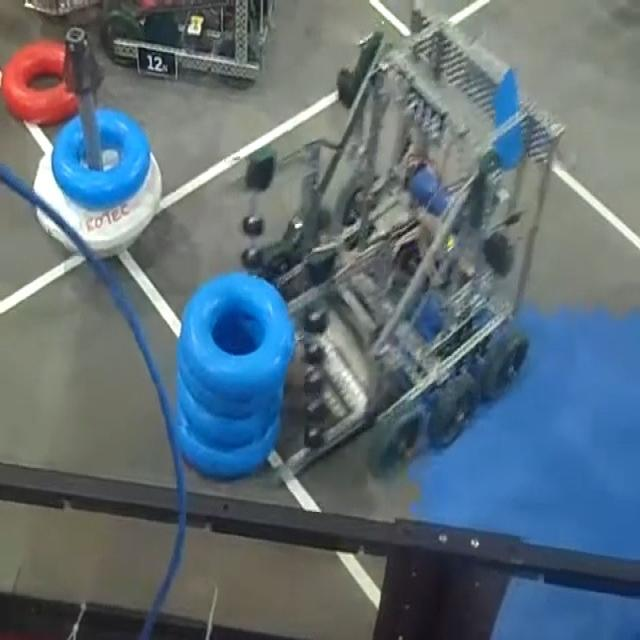Blue-Ring: (178, 273, 294, 396), (51, 108, 151, 209), (179, 376, 278, 448), (178, 413, 278, 478), (178, 368, 284, 417)
Red-Ring: (1, 40, 78, 124)
